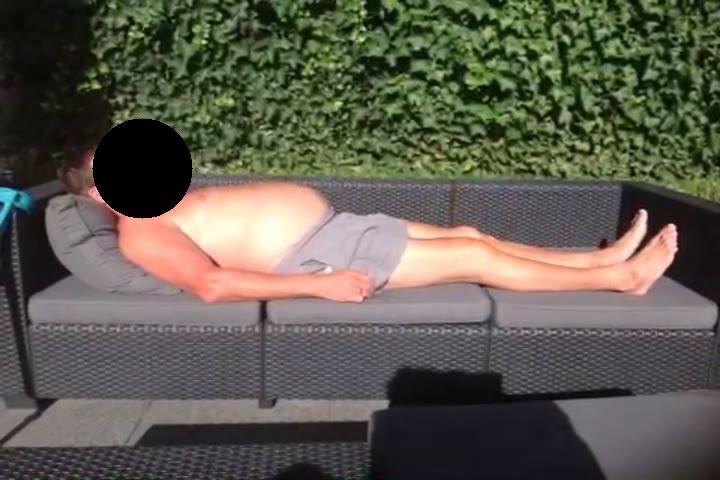lower_body: (304, 207, 683, 300)
